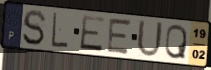E: (78, 14, 107, 53), (105, 17, 134, 56)
L: (51, 11, 70, 50)
Q: (163, 23, 189, 61)
S: (21, 8, 48, 47)
U: (135, 18, 165, 59)
